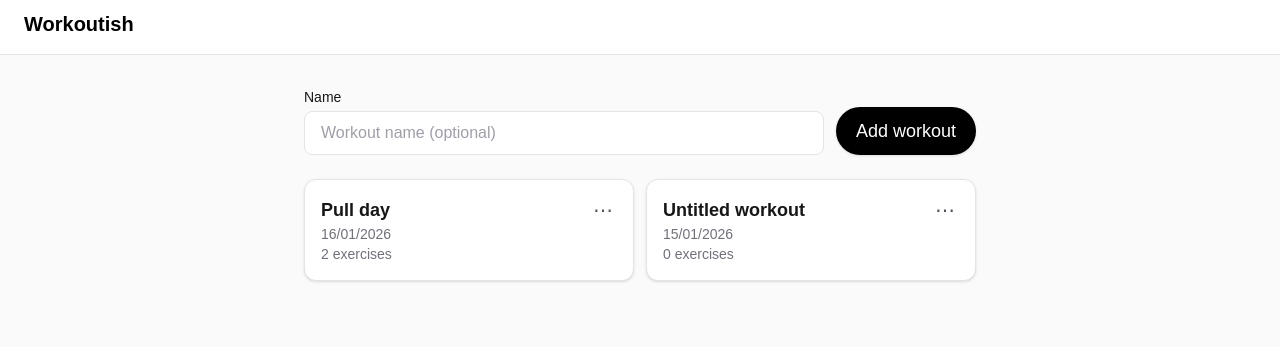
Test: failed delete shows an alert and keeps the workout
Click the button named "Actions for". click: (603, 210)
box: [581, 188, 625, 232]
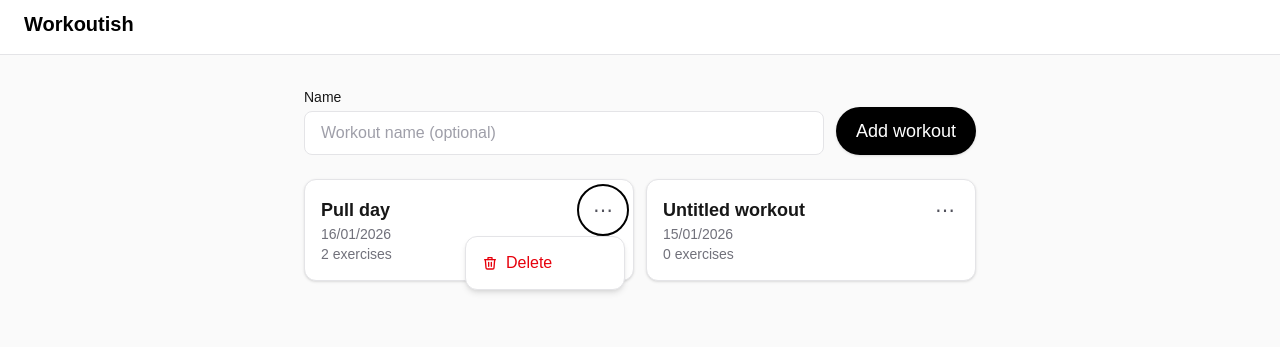
Click the menu item "Delete". click: (545, 263)
box: [470, 241, 620, 285]
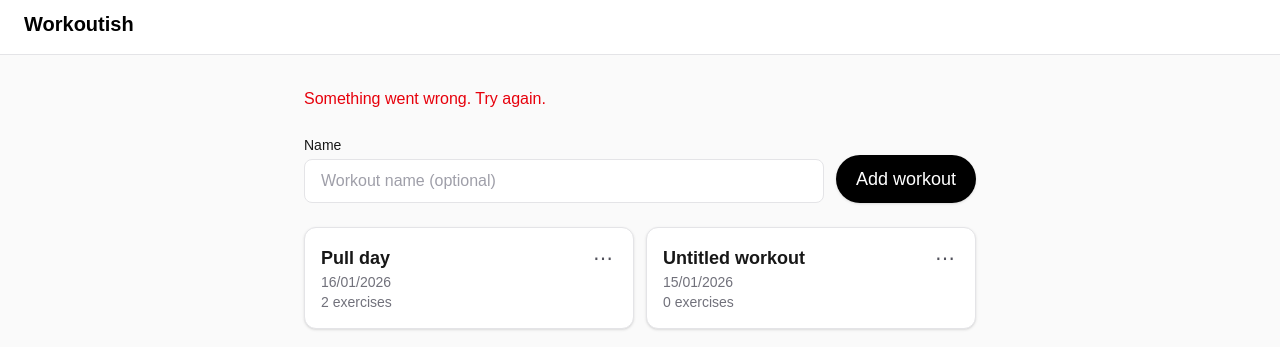
Check: the link "Pull day 16/01/2026 2 exercises" is shown, box [321, 248, 392, 310]
Check: the message "Something went wrong. Try again." is shown, box [304, 90, 546, 107]
